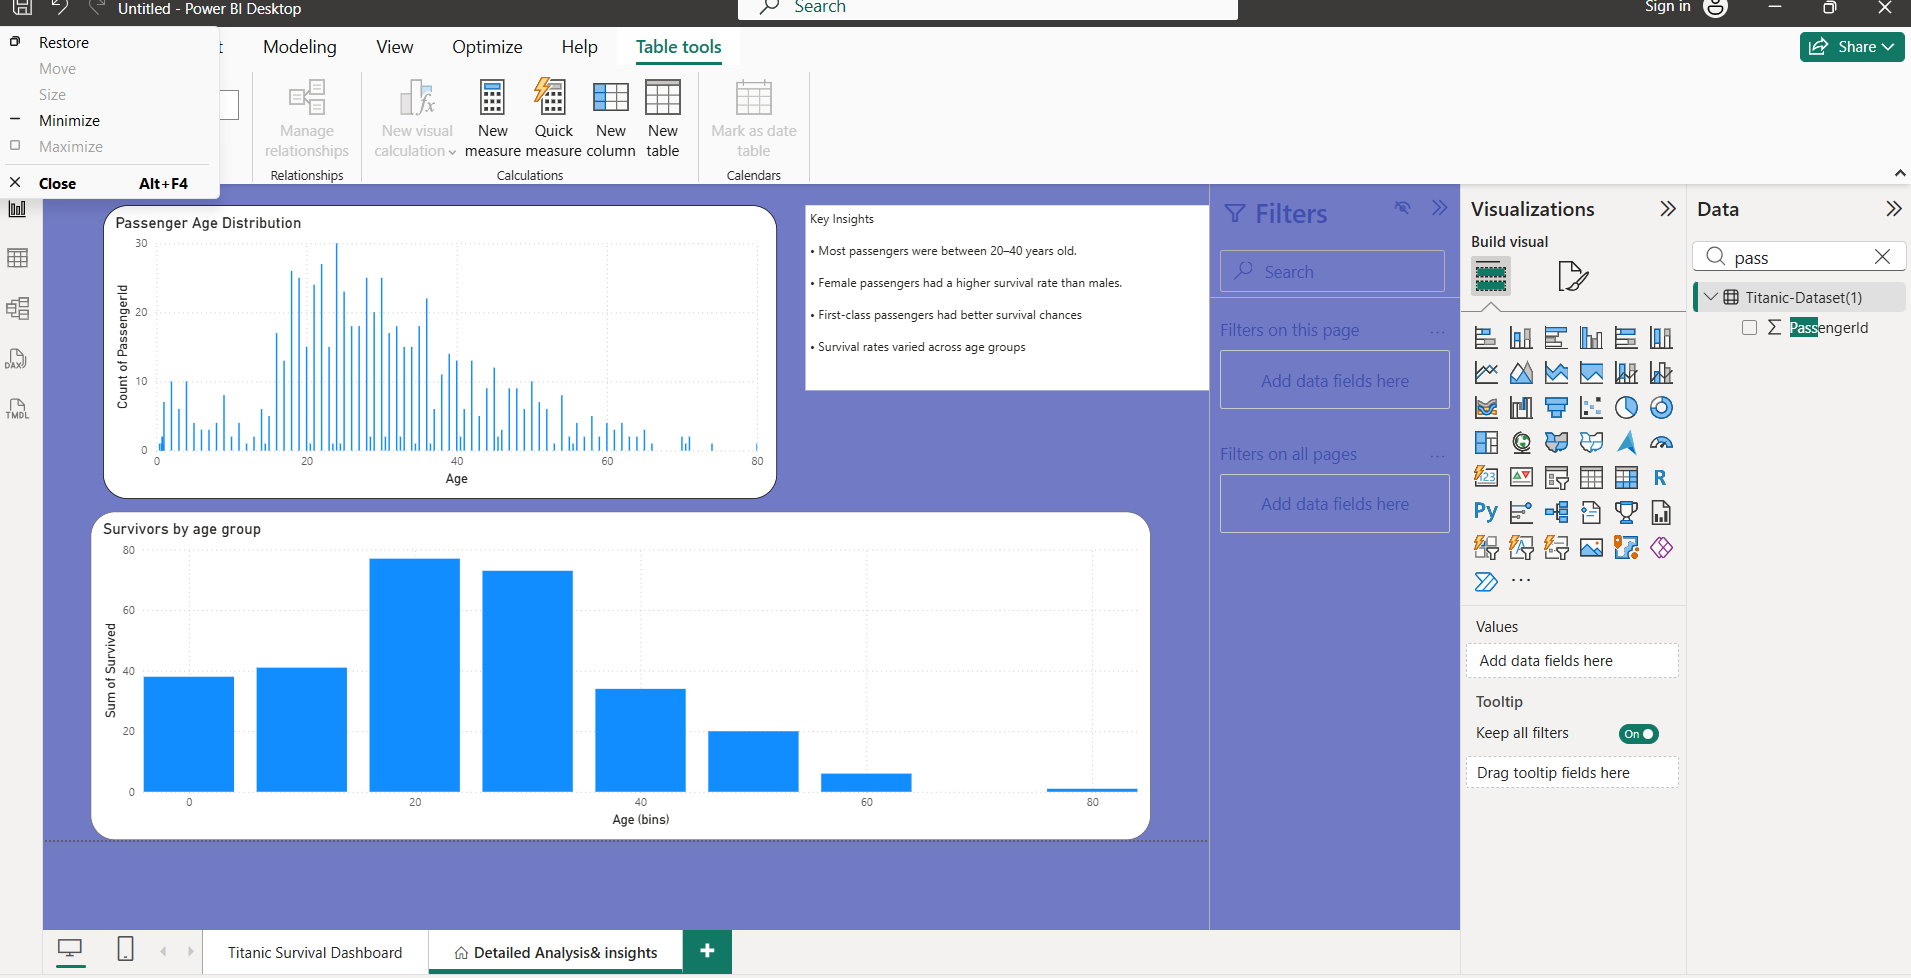

The page's visual inventory and layout, read from the dashboard file:
{"tool":"powerbi","page":{"name":"Detailed Analysis& insights","canvas":[1280,720],"ordinal":1},"visuals":[{"type":"clusteredColumnChart","title":"Passenger Age Distribution","fields":{"Category":["Titanic-Dataset(1).Age"],"Y":["CountNonNull(Titanic-Dataset(1).PassengerId)"]},"box":[65.9,23.3,739.6,322.5],"z":0},{"type":"clusteredColumnChart","title":"Survivors by age group","fields":{"Category":["Titanic-Dataset(1).Age (bins)"],"Y":["Sum(Titanic-Dataset(1).Survived)"]},"box":[52.1,359.5,1163.6,360.9],"z":1},{"type":"textbox","box":[837.1,23.3,443.2,203.1],"z":2}]}

Visuals, with their boxes on the page's 1280x720 design canvas (x1, y1, x2, y2). These are canvas units, not pixel positions in the 1911x978 screenshot, which may show the page scaled, cropped or inside an application window:
"Passenger Age Distribution" clusteredColumnChart: detection(66, 23, 806, 346)
"Survivors by age group" clusteredColumnChart: detection(52, 360, 1216, 720)
textbox: detection(837, 23, 1280, 226)
